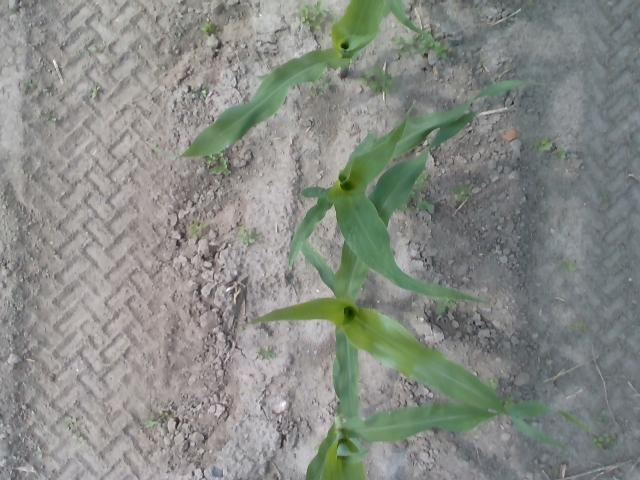Maize: (242, 108, 564, 448), (287, 79, 542, 306), (145, 0, 431, 160), (306, 357, 593, 480)
Weeds: (64, 416, 92, 442), (362, 69, 391, 89), (422, 35, 449, 56), (238, 228, 260, 246), (594, 432, 616, 450), (143, 412, 170, 426), (436, 299, 457, 314), (394, 38, 415, 52), (210, 158, 228, 174), (190, 220, 207, 236), (313, 2, 328, 17), (22, 79, 36, 94), (298, 9, 314, 22), (539, 136, 552, 152), (310, 18, 326, 30), (574, 320, 588, 333), (419, 173, 430, 189), (201, 24, 215, 36), (458, 188, 470, 202), (419, 200, 434, 211), (486, 377, 501, 388), (564, 258, 576, 270), (262, 347, 274, 359), (320, 77, 332, 89), (504, 392, 516, 404), (89, 88, 101, 98), (89, 44, 104, 52), (559, 152, 571, 161), (206, 159, 218, 166), (200, 90, 208, 100)
